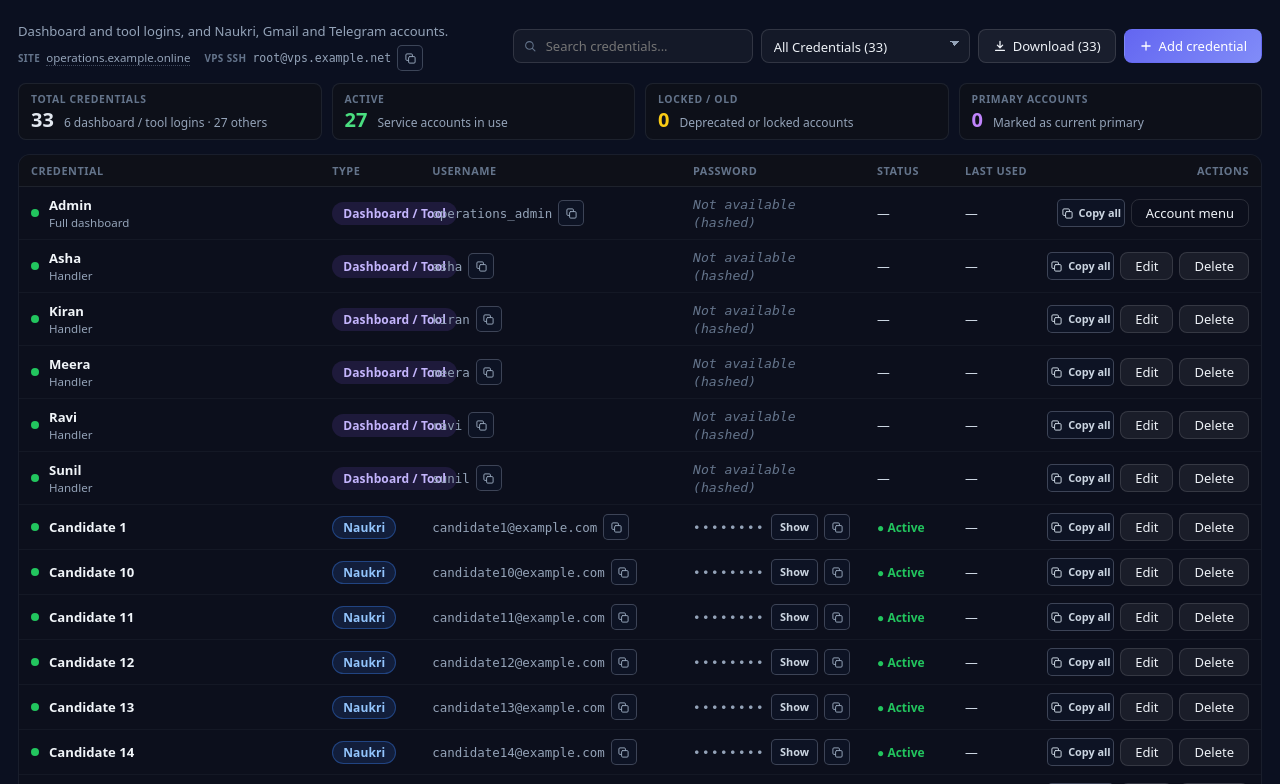
the one table › shows only Telegram records when that type is chosen
The image size is (1280, 784).
Select "Telegram (1)" in the dropdown named "Credential type" at (865, 46), box [761, 28, 970, 62]
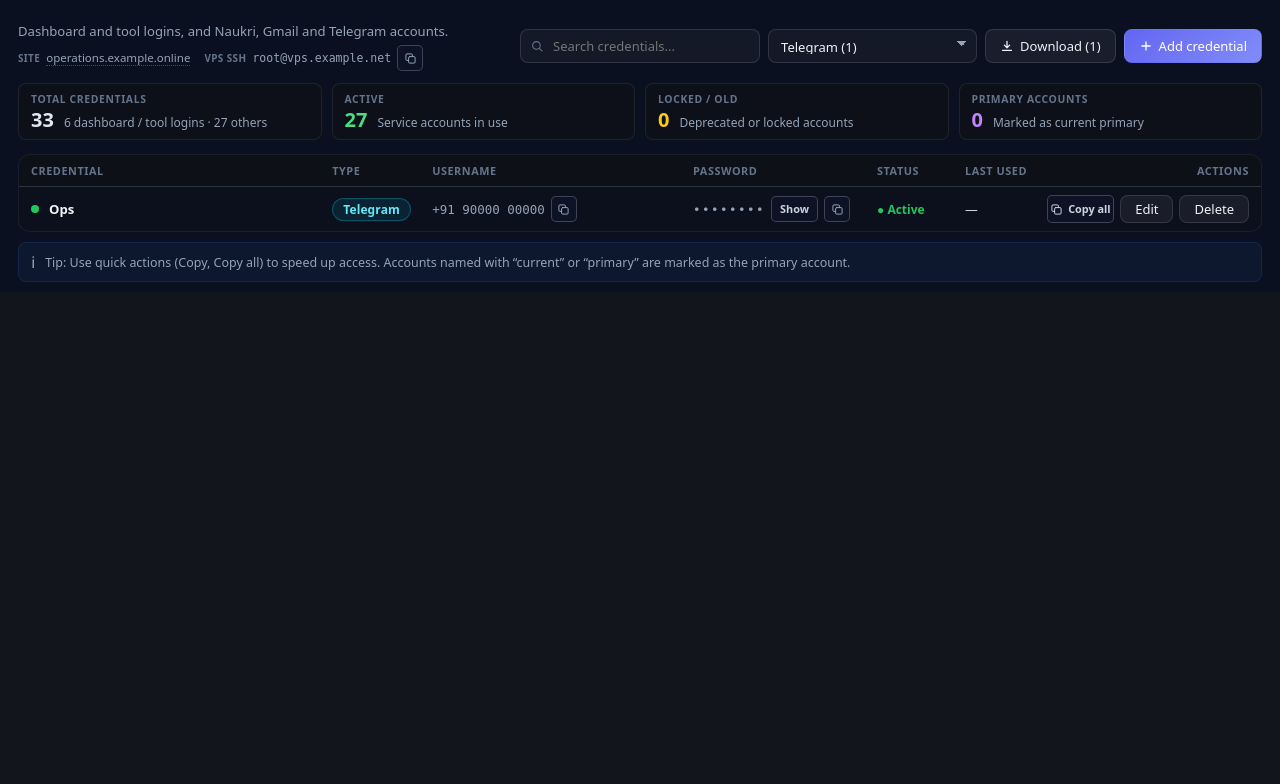
Now the text with class "dr-acct-svc" reads "Telegram", box [343, 200, 400, 218]
